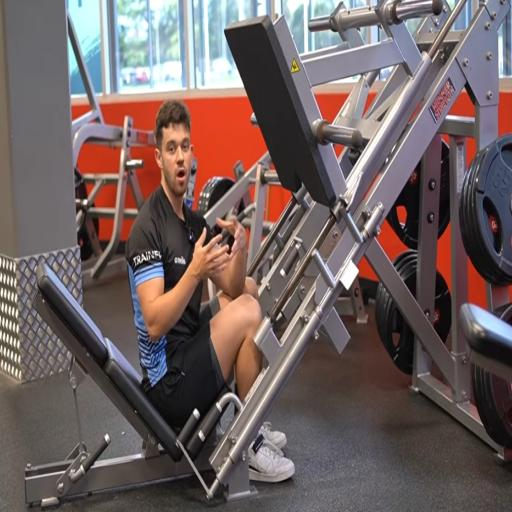Leg Press: (61, 14, 375, 478)
